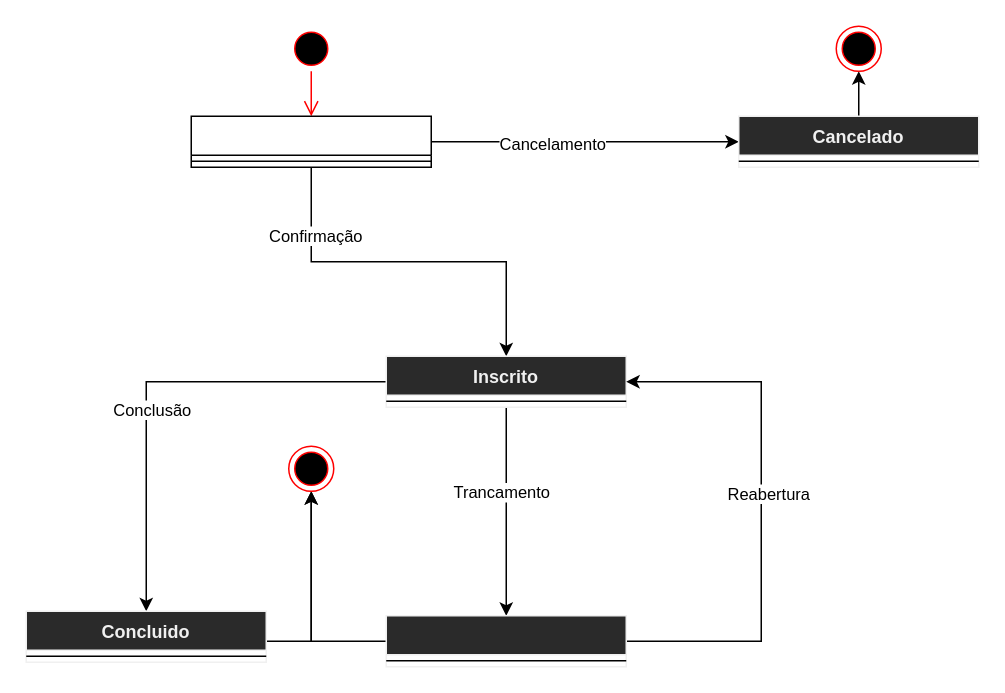
Some shapes in this 1005 by 693 pixel diagram are drawn without their labels. The centre of each missing label's shape, as x and y in pixels:
PreInscricao: the point at 310,141
Trancado: the point at 505,640
